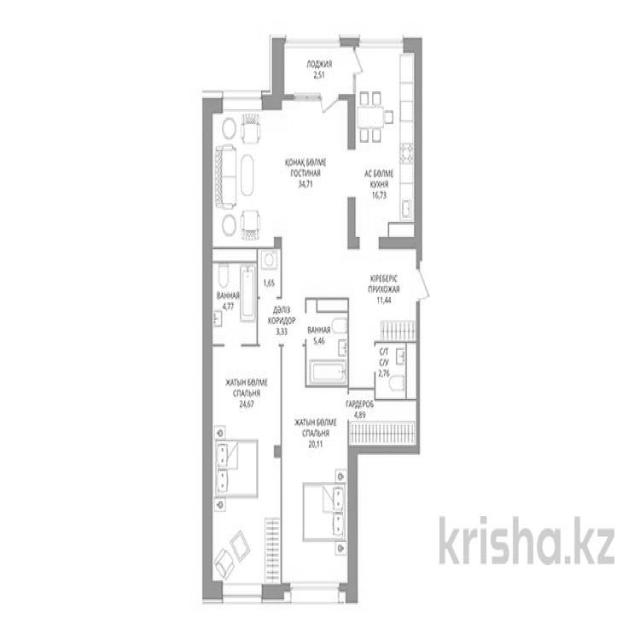balcony: (285, 48, 353, 93)
bathroom: (213, 262, 257, 344), (306, 300, 347, 384)
hallway: (258, 247, 350, 389), (350, 249, 416, 388)
kitchen: (356, 50, 414, 237)
living_room: (213, 110, 347, 248), (213, 348, 280, 584), (283, 390, 347, 582)
other: (349, 391, 417, 447), (258, 249, 281, 297)
